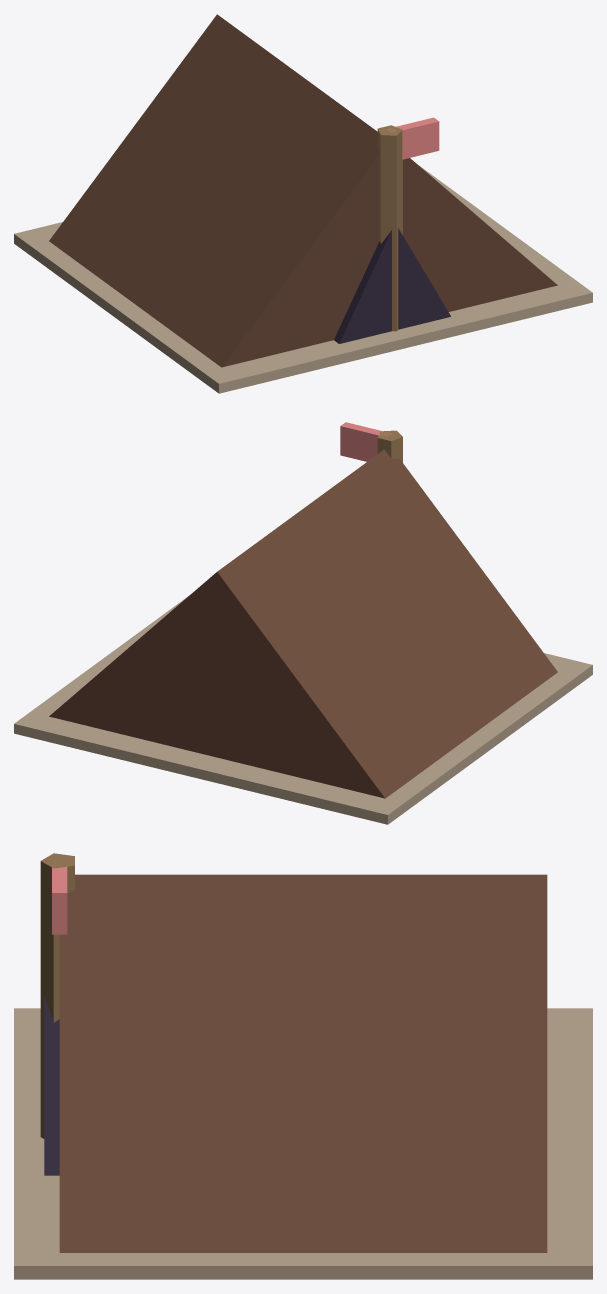
The model's file is medieval-g0.glb.
3 views of the same model, one above another, from view 1: azimuth 30°, elevation 25°; view 2: azimuth 150°, elevation 25°; view 3: azimuth 270°, elevation 25° (orthographic). The views are drawn at different scales.
Parts seen in each view (by area): view 1: medieval-g0; view 2: medieval-g0; view 3: medieval-g0.
Part boxes in pixels (x1,y1,x2,y2): medieval-g0: (14, 14, 592, 393); medieval-g0: (14, 422, 592, 824); medieval-g0: (14, 853, 592, 1279).
Bounding box in the file's own units: 0.8 × 0.42 × 0.76.
